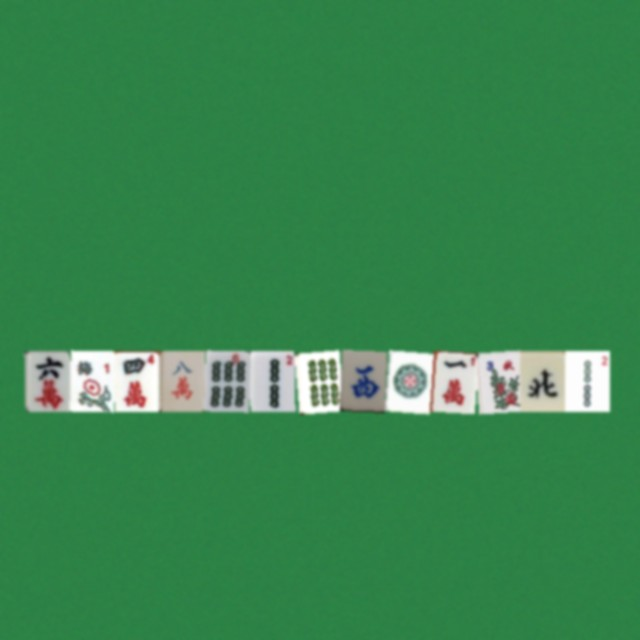tile: (24, 350, 69, 411), (69, 350, 114, 411), (114, 350, 159, 411), (159, 350, 204, 411), (204, 350, 249, 411), (249, 350, 294, 411), (294, 350, 339, 411), (339, 350, 384, 411), (384, 350, 429, 411), (429, 350, 474, 411), (474, 350, 519, 411), (519, 350, 564, 411), (564, 350, 609, 411)
